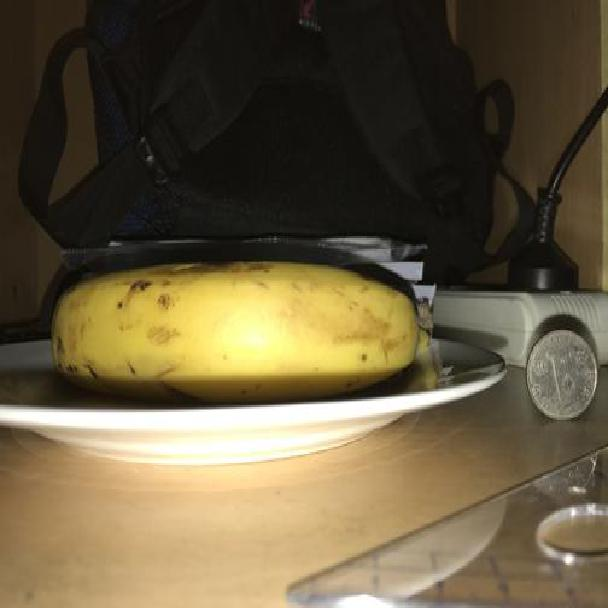banana: (51, 257, 426, 397)
